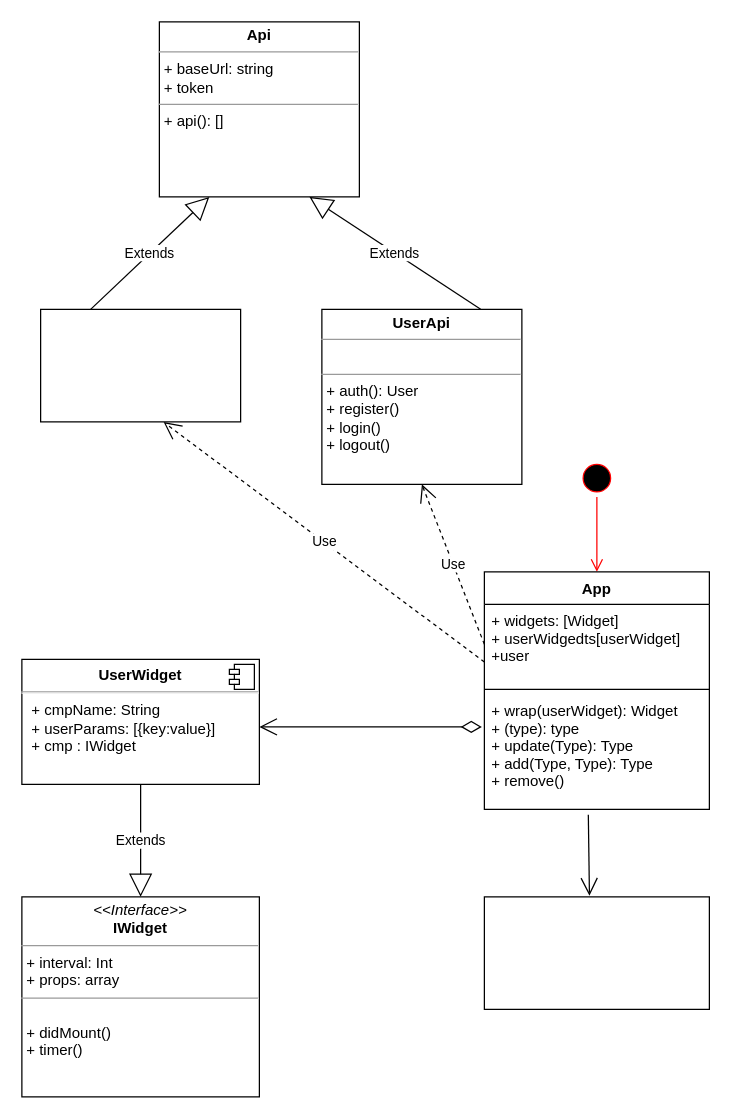
The diagram is 731 pixels wide and 1119 high, and some of its shapes have lost their labels. The centre of each missing label's shape, as x and y in pixels:
"Dashborad + props: [UserWidgets] + reorder(): + render()" goes at point 596,952.
"WidgetApi + getAll(): [Widgets]" goes at point 140,365.
